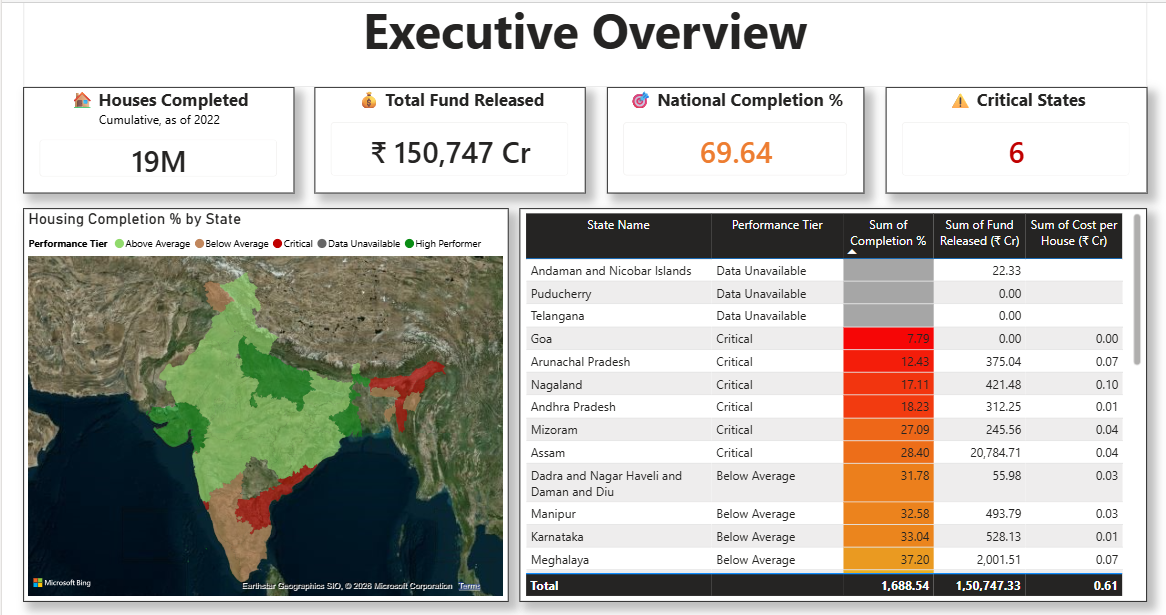

This screenshot's page, from the dashboard's own definition file:
{"tool":"powerbi","page":{"name":"Executive Overview","canvas":[1280,720],"ordinal":0},"visuals":[{"type":"cardVisual","title":"🏠 Houses Completed","fields":{"Data":["Sum(state_level_summary.completed_houses_cumulative)"]},"box":[23.3,137.1,297.6,116.7],"z":0},{"type":"cardVisual","title":"💰 Total Fund Released","fields":{"Data":["state_level_summary.Total Fund Released Display"]},"box":[342.4,137.1,297.6,116.7],"z":1000},{"type":"cardVisual","title":"🎯 National Completion %","fields":{"Data":["state_level_summary.National Completion %"]},"box":[664.3,137.1,282.1,116.7],"z":2000},{"type":"cardVisual","title":"⚠️ Critical States","fields":{"Data":["state_level_summary.Critical States Count"]},"box":[969.7,137.1,286.9,116.7],"z":3000},{"type":"filledMap","title":"Housing Completion % by State","fields":{"Category":["state_level_summary.state_name"],"Series":["state_level_summary.Performance Tier"]},"box":[23.3,270.4,533,431.9],"z":4000},{"type":"tableEx","fields":{"Values":["state_level_summary.state_name","state_level_summary.performance_tier","Sum(state_level_summary.completion_pct_of_target)","Sum(state_level_summary.total_fund_released_crore)","Sum(state_level_summary.cost_per_completed_house_crore)"]},"box":[568,270.4,688.6,431.9],"z":5000},{"type":"textbox","box":[23.3,33.1,1233.3,104.1],"z":6000}]}

Visuals, with their boxes on the page's 1280x720 design canvas (x1, y1, x2, y2). These are canvas units, not pixel positions in the 1166x615 screenshot, which may show the page scaled, cropped or inside an application window:
"🏠 Houses Completed" cardVisual: (23,137,321,254)
"💰 Total Fund Released" cardVisual: (342,137,640,254)
"🎯 National Completion %" cardVisual: (664,137,946,254)
"⚠️ Critical States" cardVisual: (970,137,1257,254)
"Housing Completion % by State" filledMap: (23,270,556,702)
tableEx - state_level_summary.state_name x state_level_summary.performance_tier: (568,270,1257,702)
textbox: (23,33,1257,137)
